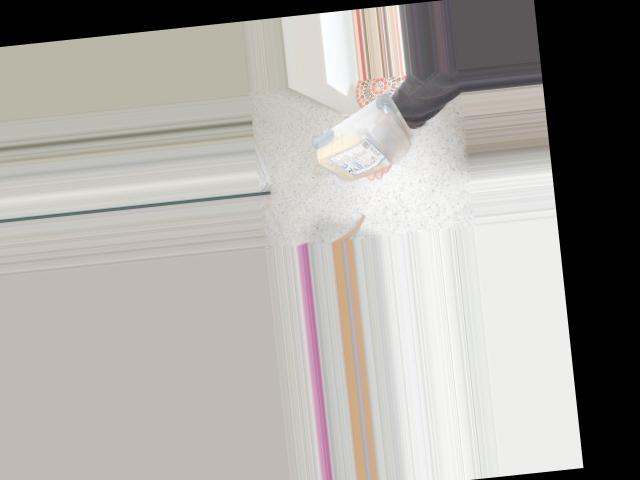cheese: (303, 91, 432, 187)
